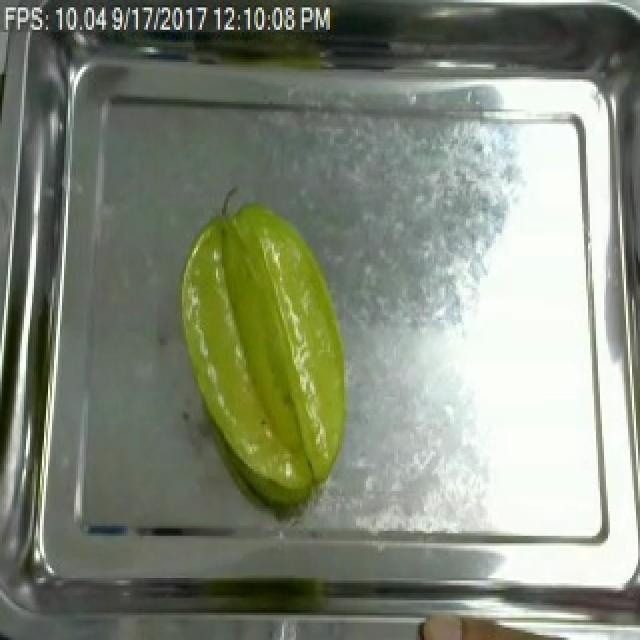fruit: (168, 196, 360, 521)
